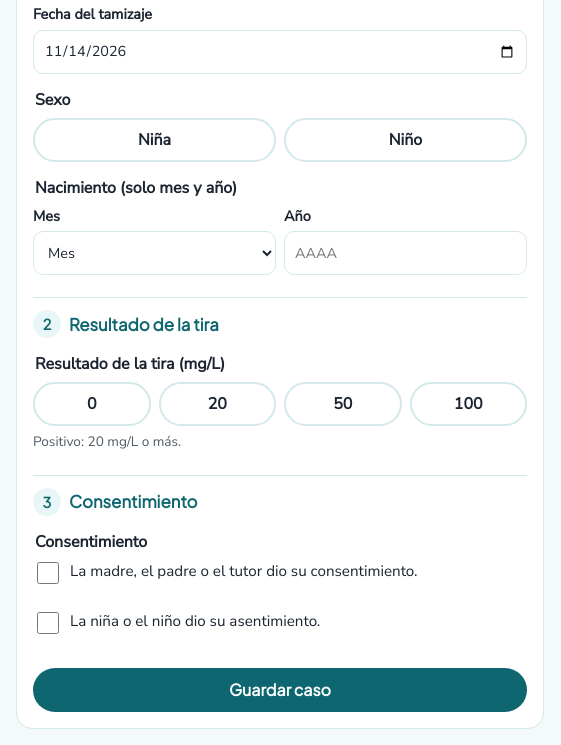
Registrar caso positivo (HU01) › muestra los errores y no guarda si el formulario está vacío
(page scrolled)
Click the button "Guardar caso": (280, 690) x1=33 y1=668 x2=527 y2=712
(page scrolled)
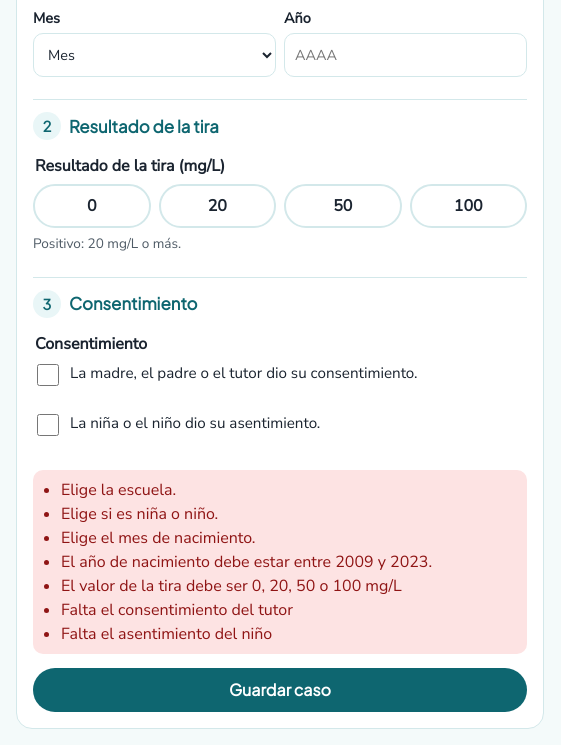
Expected: the message shows "Elige la escuela.", x1=61 y1=479 x2=176 y2=501
Expected: the message shows "Falta el consentimiento del tutor", x1=61 y1=599 x2=293 y2=621
